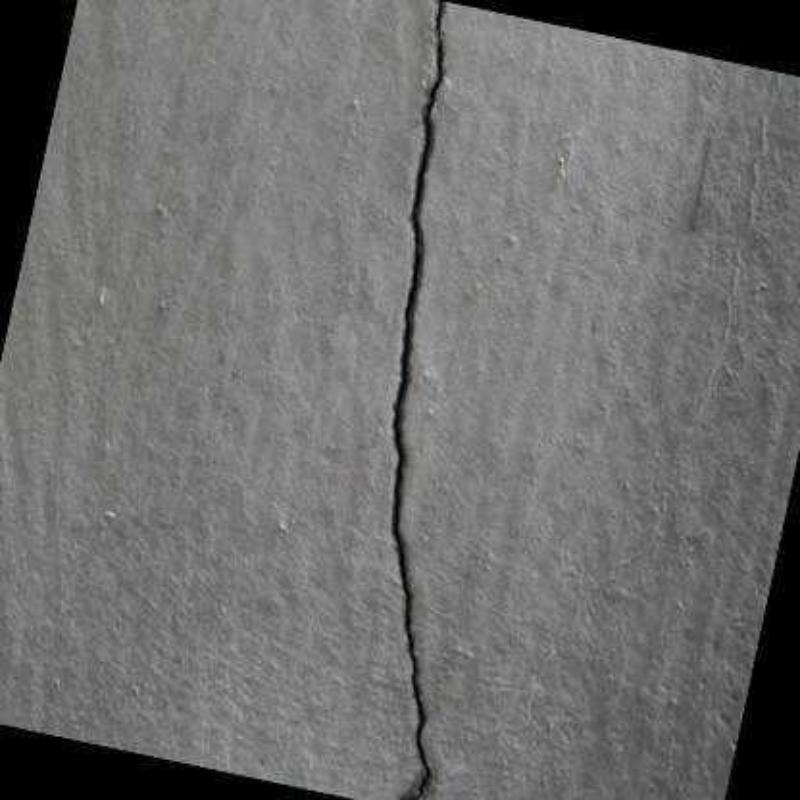pothole: (382, 0, 450, 800)
